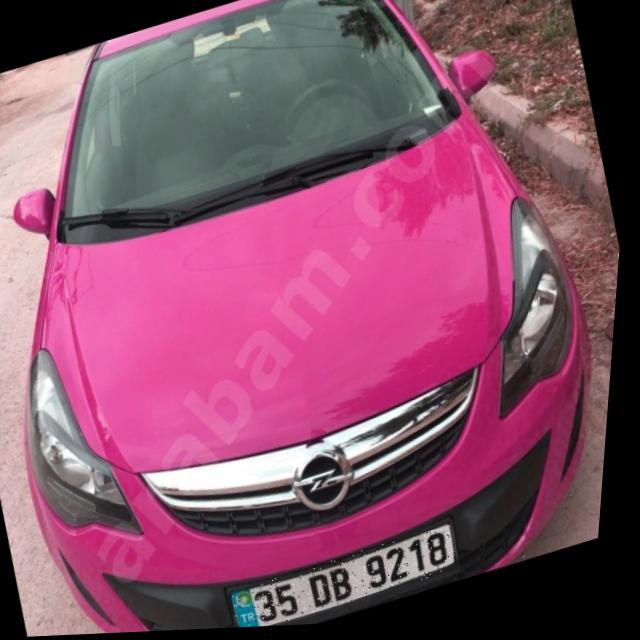license_plate: (235, 526, 470, 631)
